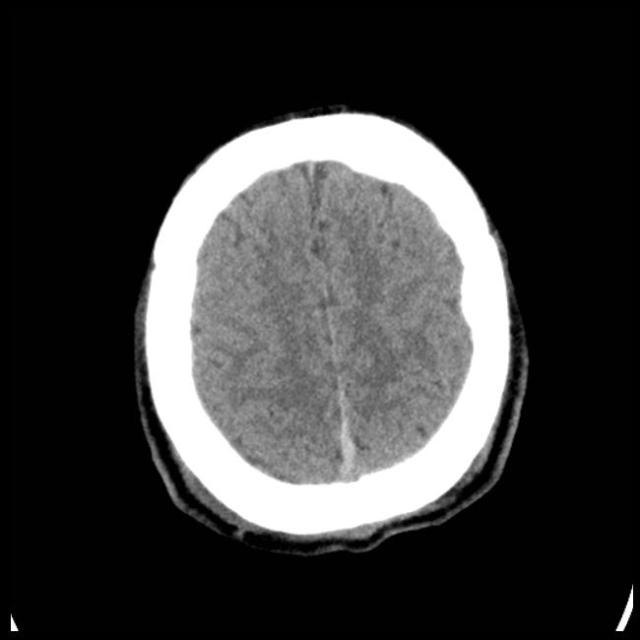lesion: (130, 102, 533, 558)
